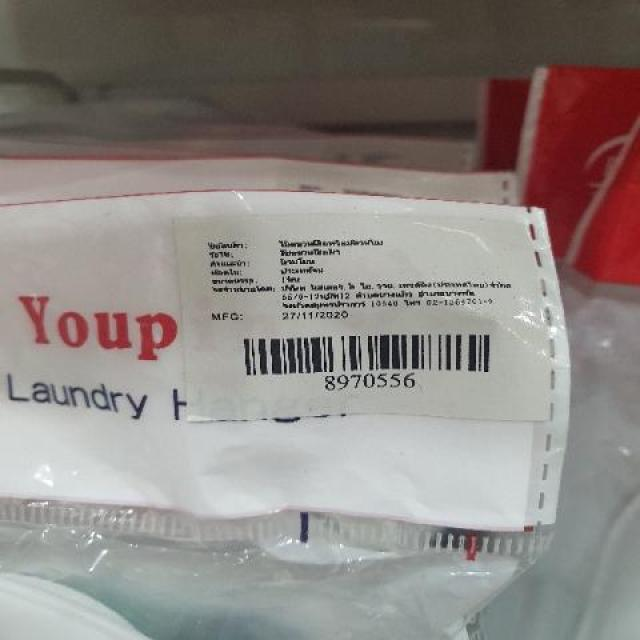Barcode: (235, 325, 505, 390)
